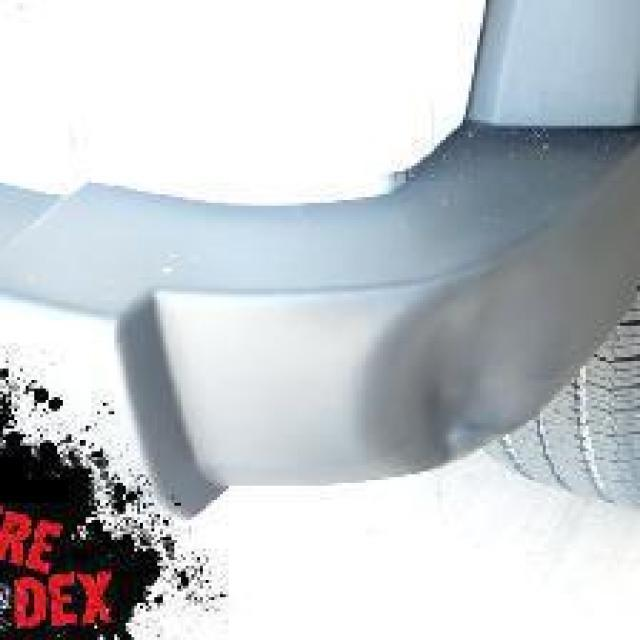damaged: (354, 277, 574, 472)
